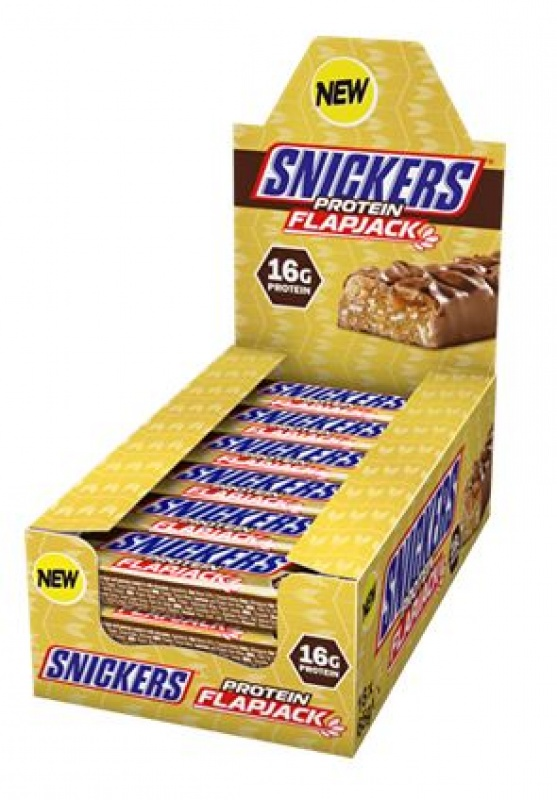snickers: (382, 456, 459, 642), (257, 145, 472, 211), (40, 650, 185, 698), (101, 533, 284, 570), (135, 498, 311, 533), (176, 464, 339, 497), (204, 431, 362, 465), (172, 468, 339, 497), (231, 404, 383, 431), (265, 381, 407, 405), (269, 382, 407, 405)
